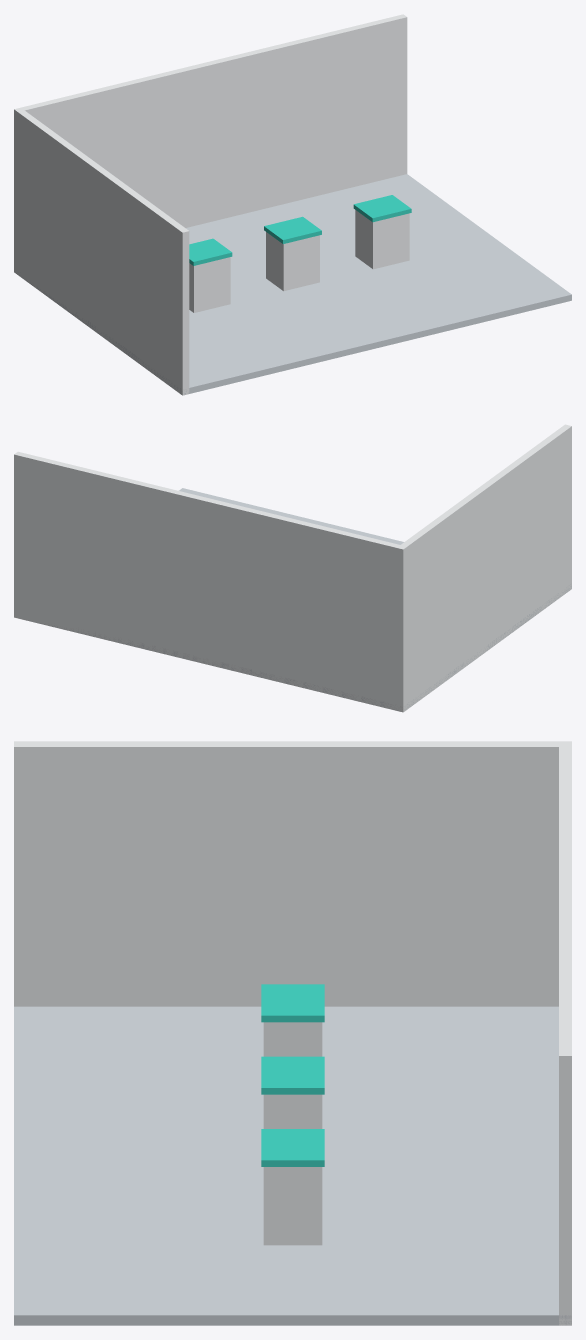
3 renders of one model, top to bottom at view 1: azimuth 30°, elevation 25°; view 2: azimuth 150°, elevation 25°; view 3: azimuth 270°, elevation 25°, orthographic. The views are drawn at different scales.
Visible parts, largest first — view 1: Exhibition Booth Concept; view 2: Exhibition Booth Concept; view 3: Exhibition Booth Concept.
Boxes of the visible parts, x1,y1,x2,y2 form: Exhibition Booth Concept: (14,14,571,395); Exhibition Booth Concept: (14,424,571,712); Exhibition Booth Concept: (14,741,571,1325).
Size of the model in its own units: 8 by 3.2 by 6.
